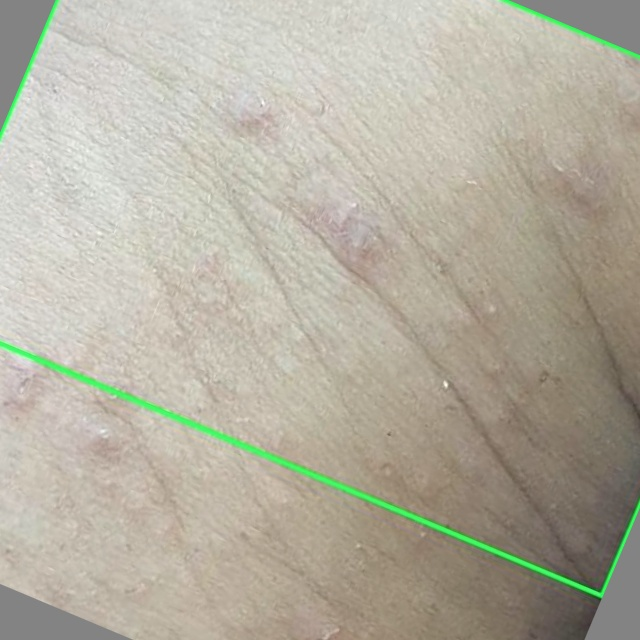Scabies: (0, 0, 639, 595)
